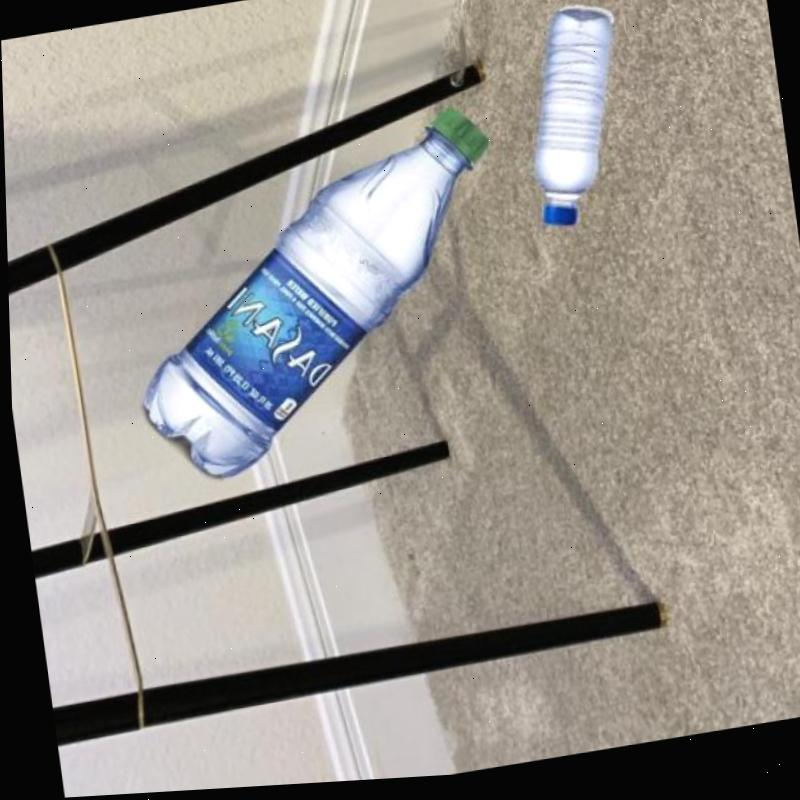botella: (103, 102, 525, 494), (505, 5, 636, 240)
